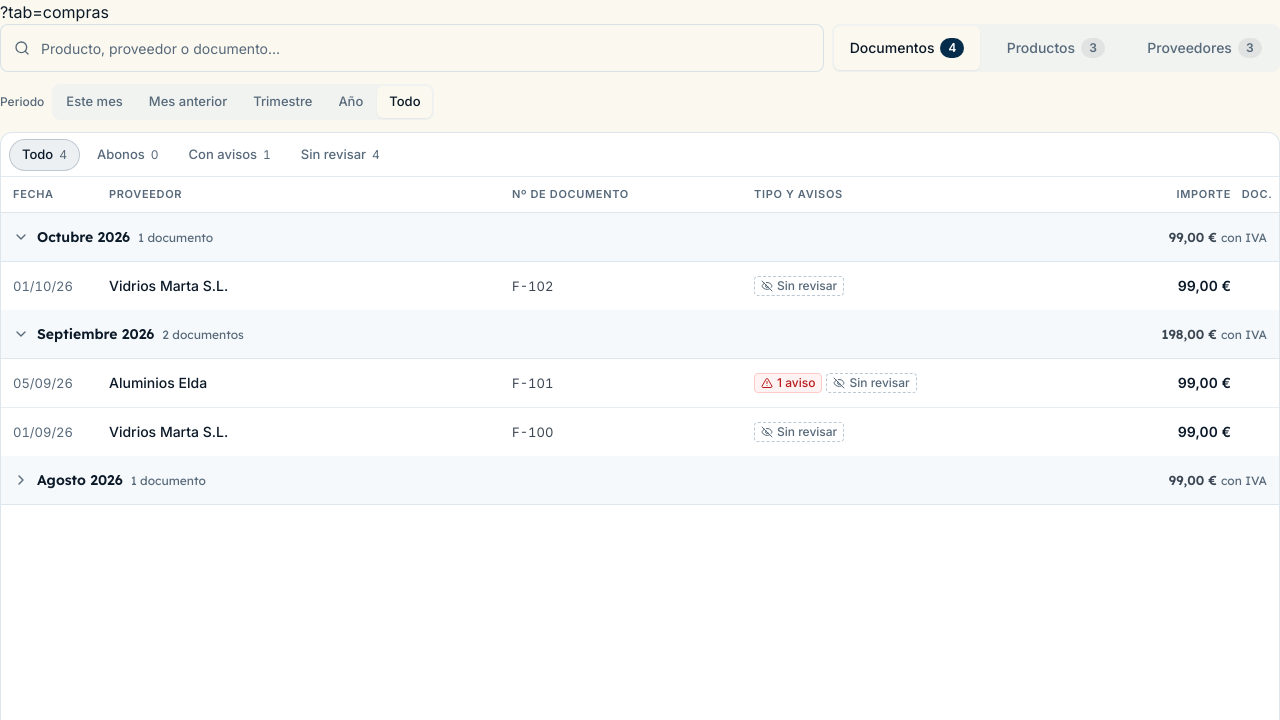
Test: Compras · ficha a pantalla completa › de la línea de un documento al producto
Click the text "F-100": [533, 432] box [512,424,553,440]
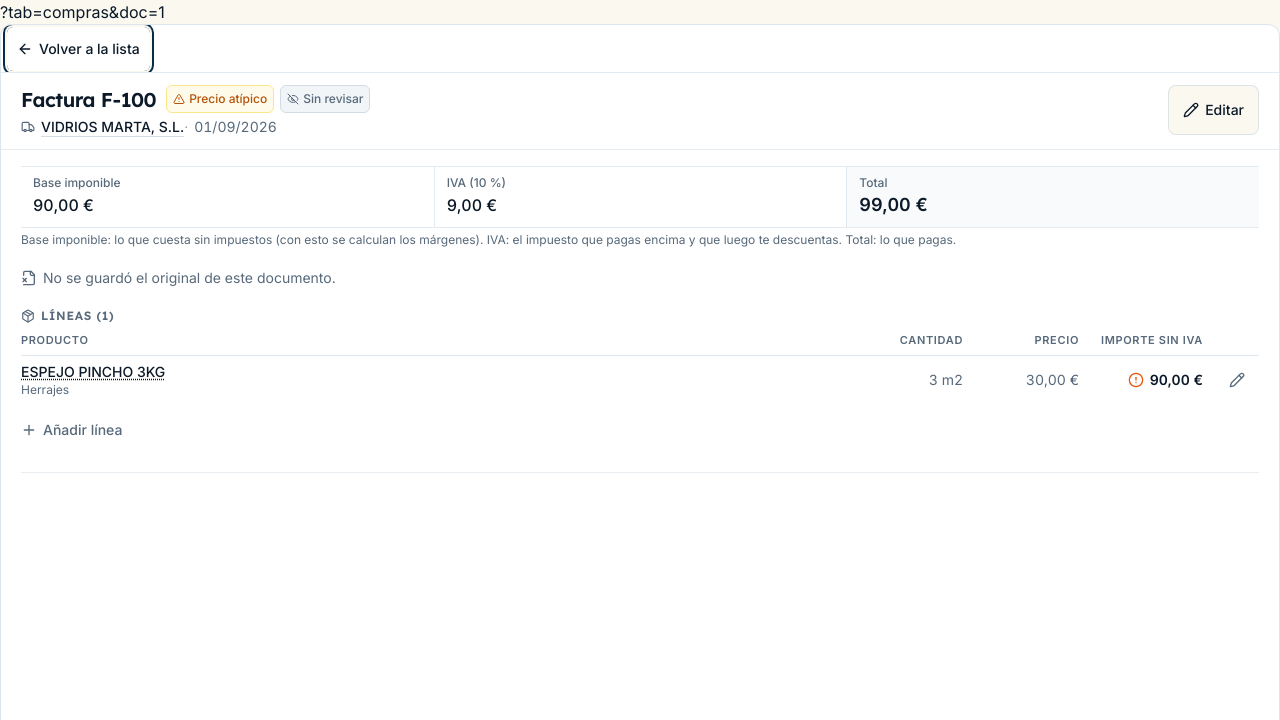
Click the button with aria-label "Ver el producto Espejo de pincho": [93, 372] box [21,362,165,382]
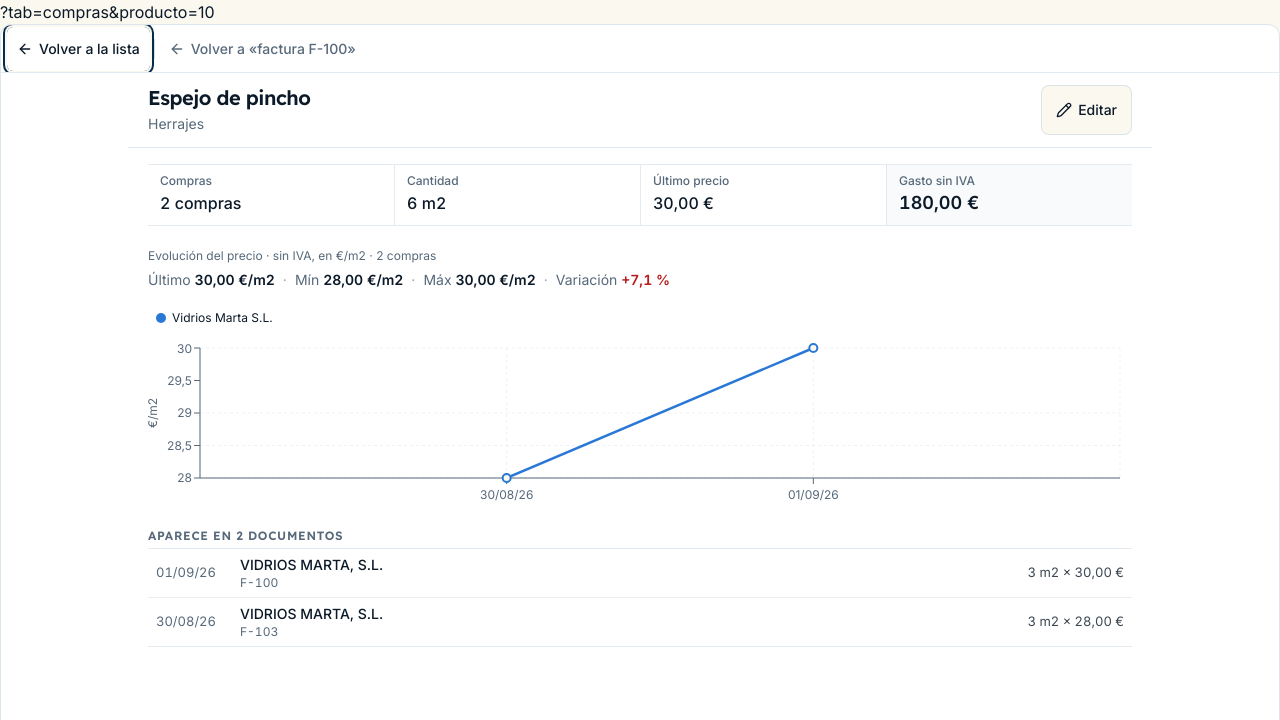
Expected: the element named "evolución del precio de espejo de pincho" is shown, [148,246,1132,508]
Expected: the button "Volver a «factura F-100»" is shown, [159,26,366,70]
